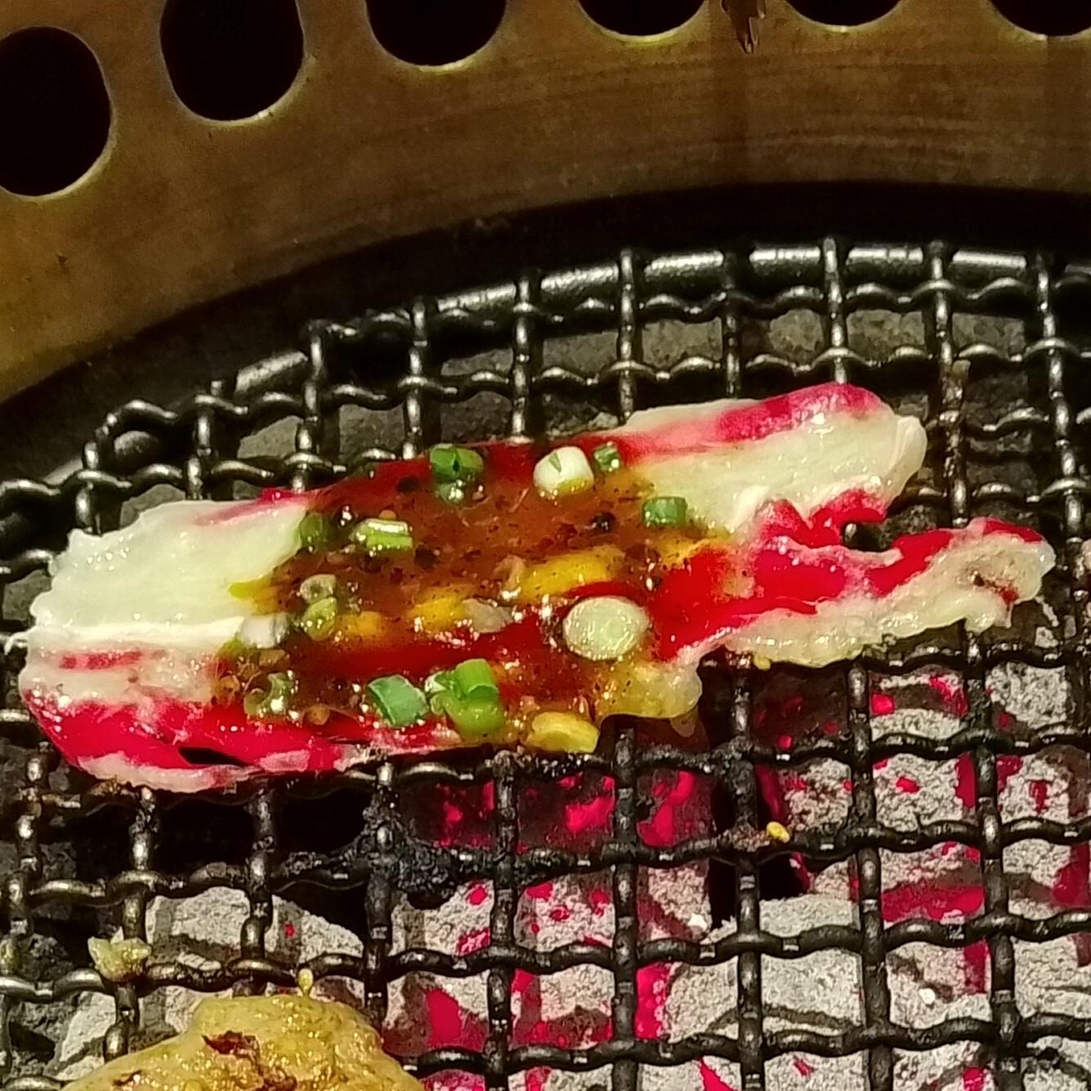Undercooked: (22, 383, 1053, 791)
Well-Cooked: (62, 992, 424, 1090)
